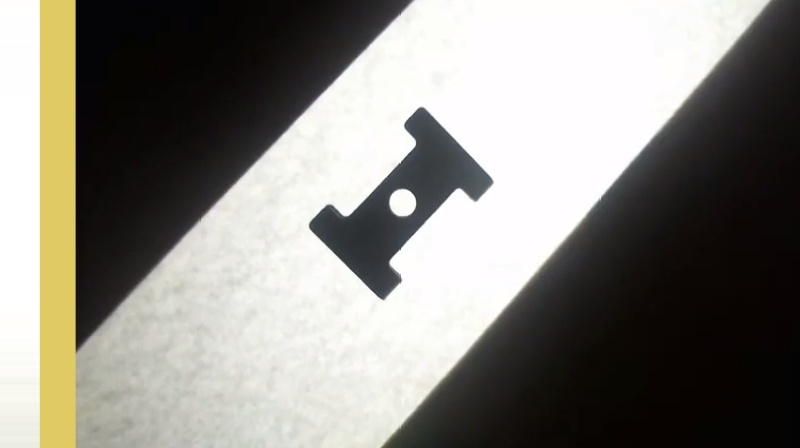O002: (303, 104, 494, 304)
